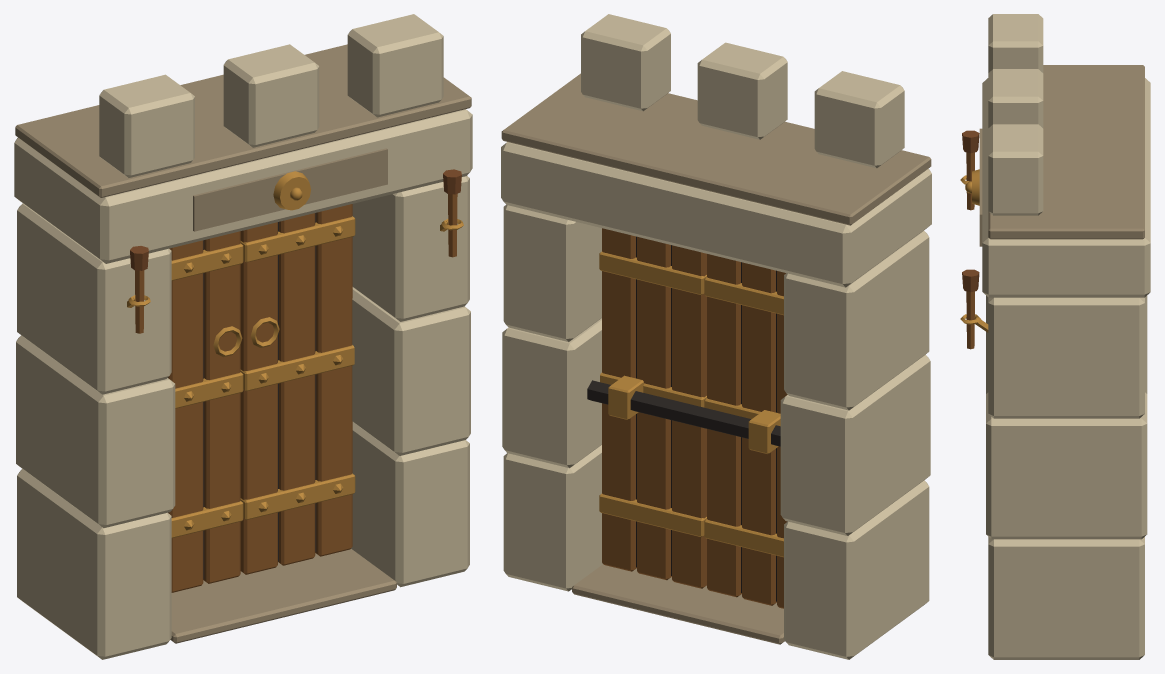
The model's file is gateClosed.glb.
3 views of the same model, side by side, from view 1: azimuth 30°, elevation 25°; view 2: azimuth 150°, elevation 25°; view 3: azimuth 270°, elevation 25° (orthographic). The views are drawn at different scales.
Visible parts, largest first — view 1: gateClosed; view 2: gateClosed; view 3: gateClosed.
Part boxes in pixels (x1,y1,x2,y2): gateClosed: [14, 14, 472, 659]; gateClosed: [501, 14, 931, 659]; gateClosed: [960, 14, 1150, 659].
Bounding box in the file's own units: 1 × 1.4 × 0.487.
